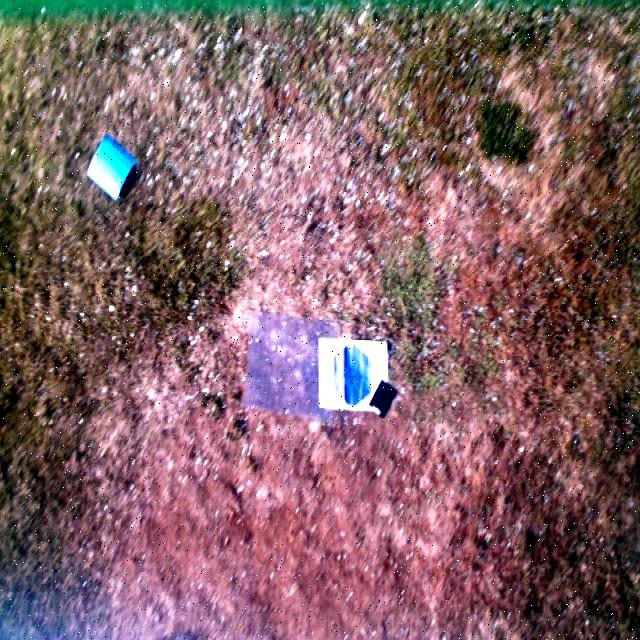blue_square: (88, 133, 136, 201)
